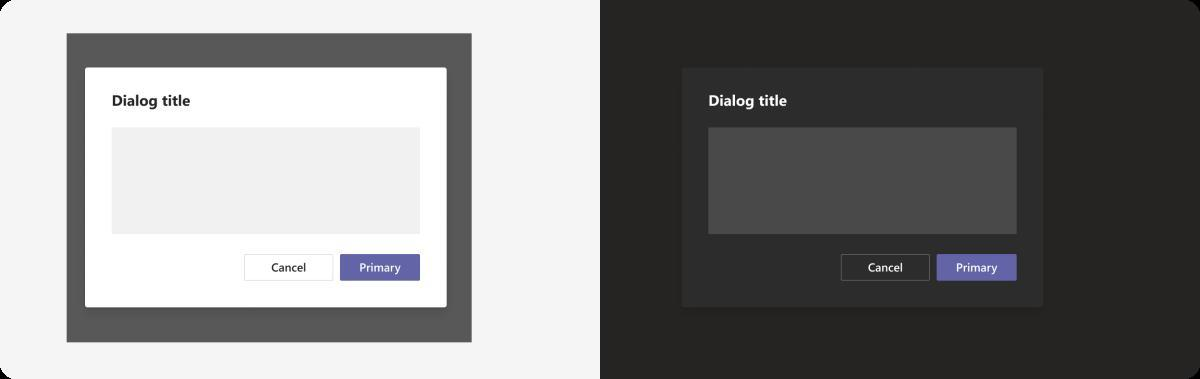button: (842, 254, 932, 282), (245, 254, 335, 281), (937, 254, 1017, 283), (341, 255, 421, 282)
label: (115, 89, 194, 112), (709, 93, 794, 111)
